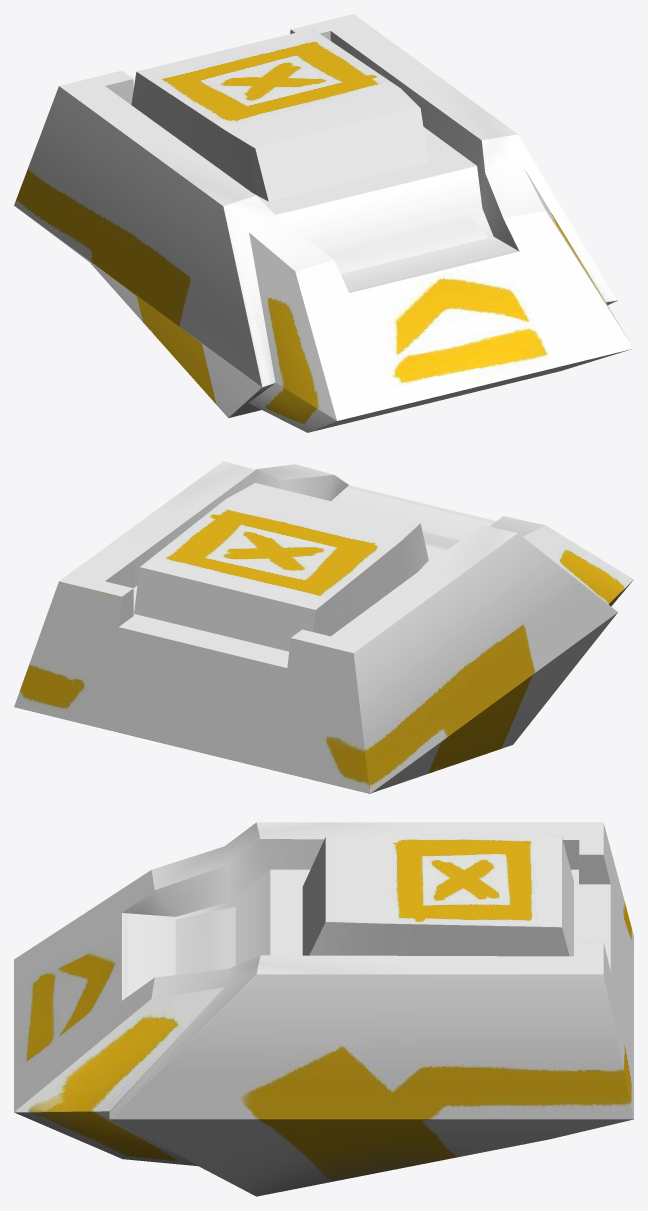
Rendered from rover.obj.
The picture shows the model from 3 angles, top to bottom: view 1: azimuth 30°, elevation 25°; view 2: azimuth 150°, elevation 25°; view 3: azimuth 270°, elevation 25°; orthographic projection. The views are drawn at different scales.
Visible parts, largest first — view 1: Default; view 2: Default; view 3: Default.
Part boxes in pixels (bbox=[...]): Default: bbox=[14, 14, 633, 432]; Default: bbox=[14, 461, 633, 793]; Default: bbox=[14, 822, 633, 1196].
Size of the model in its own units: 0.8562 by 0.5331 by 1.22.
Materials: 1 (1 with a texture image).
